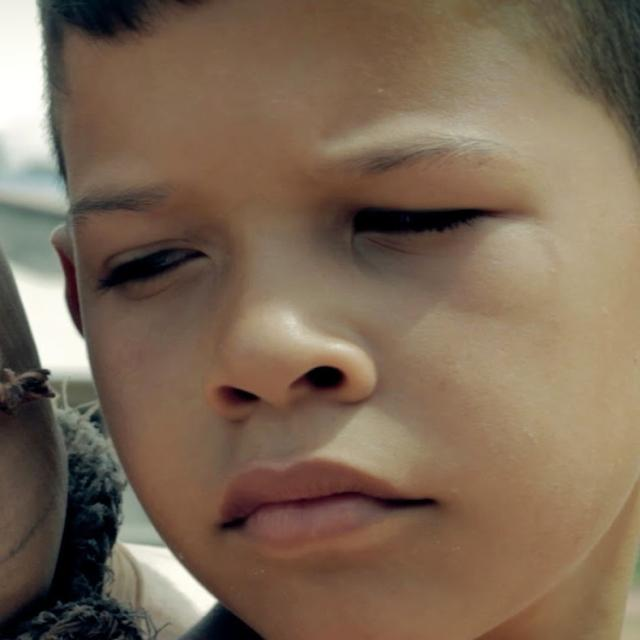Depress: (58, 5, 638, 639)
